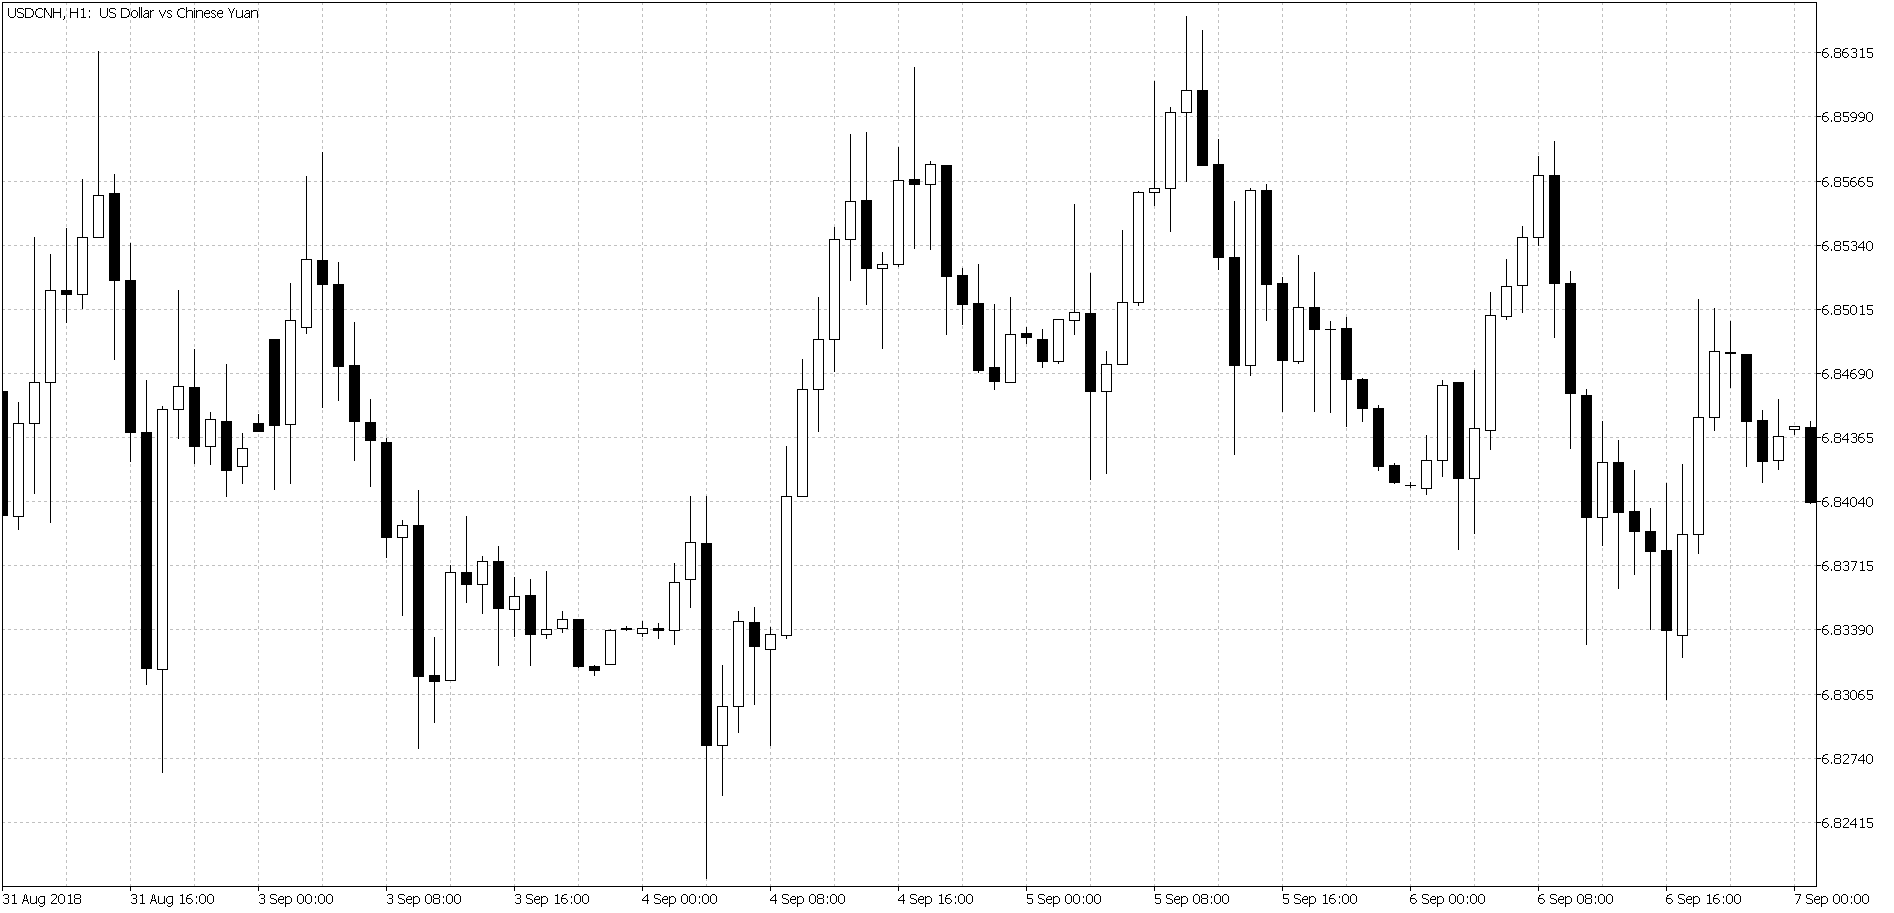headAndShoulders: (811, 49, 1627, 499)
